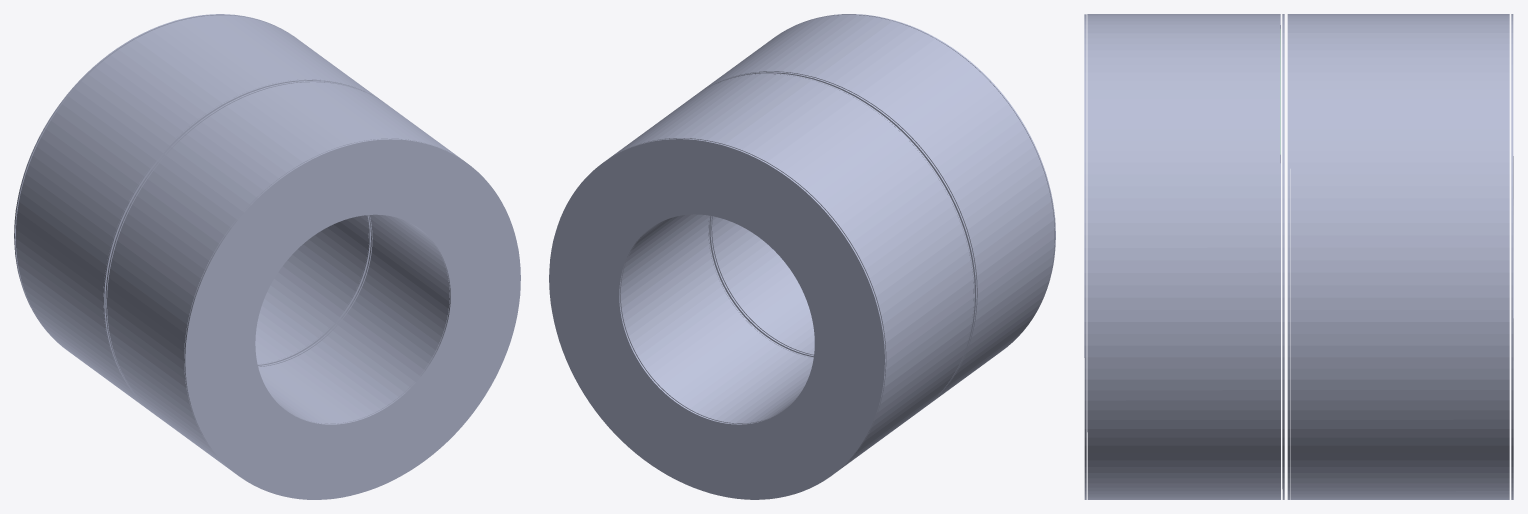
The model's file is TRT-SideC-cut4.glb.
The picture shows the model from 3 angles, left to right: view 1: azimuth 30°, elevation 25°; view 2: azimuth 150°, elevation 25°; view 3: azimuth 270°, elevation 25°; orthographic projection. The views are drawn at different scales.
Visible parts, largest first — view 1: null; view 2: null; view 3: null.
Part boxes in pixels (x1,y1,x2,y2): null: (14,14,520,499); null: (549,14,1055,499); null: (1084,14,1513,499).
Bounding box in the file's own units: 2.14 × 2.13 × 1.89.
